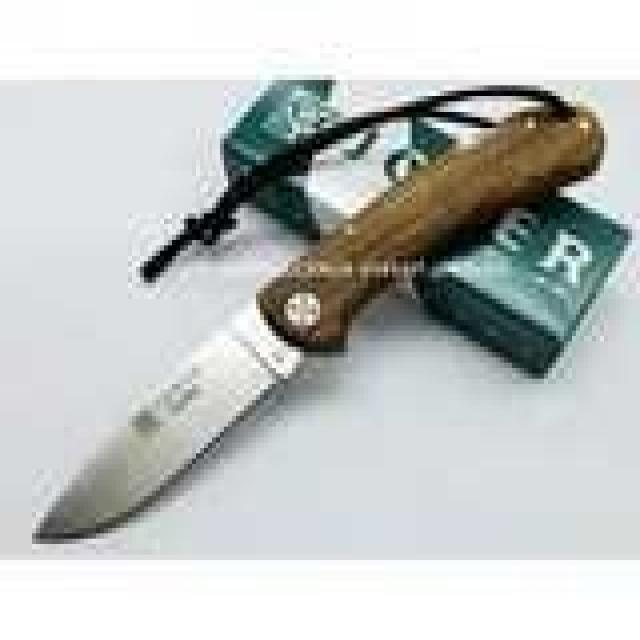Knife: (28, 93, 608, 553)
